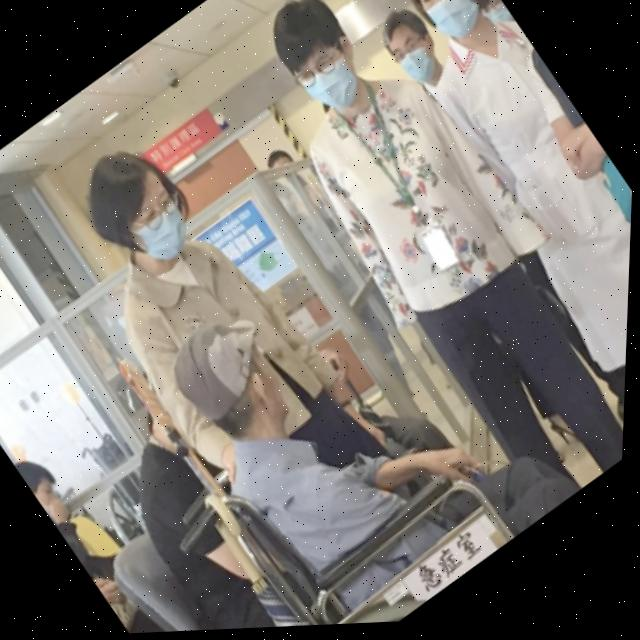Mask: (119, 197, 203, 279), (302, 55, 373, 126), (423, 0, 491, 52), (396, 46, 442, 91)
